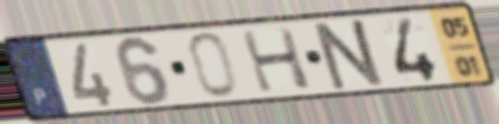0: (184, 29, 245, 101)
4: (390, 14, 440, 84), (69, 40, 117, 109)
6: (113, 33, 172, 108)
H: (236, 25, 315, 96)
N: (311, 16, 390, 93)
